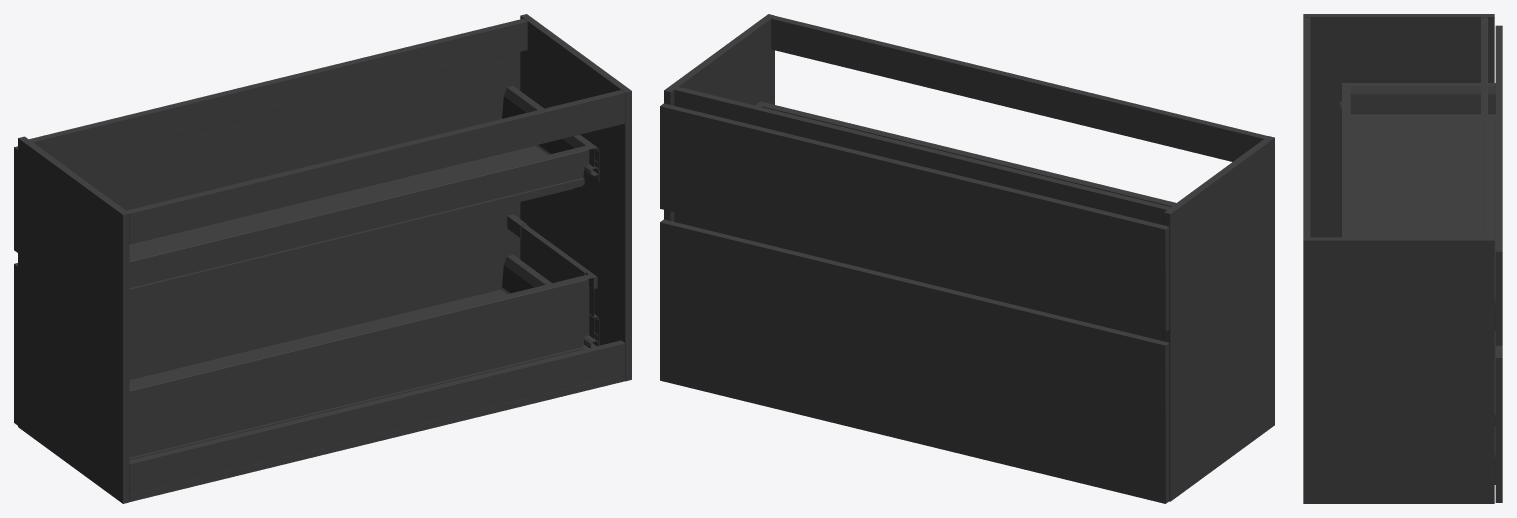
Rendered from INK_1257953.glb.
3 views of the same model, side by side, from view 1: azimuth 30°, elevation 25°; view 2: azimuth 150°, elevation 25°; view 3: azimuth 270°, elevation 25° (orthographic). The views are drawn at different scales.
Visible parts, largest first — view 1: Body__0, Grey__6, Grey__2, Body__5, Body__3, Grey__4; view 2: Body__5, Body__3, Body__0, Grey__2, Grey__4; view 3: Body__0, Grey__4, Body__3, Grey__2, Body__5, Grey__6.
Part boxes in pixels (x1=…): Body__0: x1=18, y1=14, x2=631, y2=503; Grey__6: x1=129, y1=214, x2=599, y2=459; Grey__2: x1=126, y1=90, x2=624, y2=494; Body__5: x1=14, y1=202, x2=520, y2=425; Body__3: x1=14, y1=52, x2=520, y2=252; Grey__4: x1=129, y1=86, x2=599, y2=296; Body__5: x1=660, y1=219, x2=1169, y2=503; Body__3: x1=660, y1=103, x2=1169, y2=331; Body__0: x1=664, y1=14, x2=1274, y2=501; Grey__2: x1=771, y1=16, x2=1267, y2=161; Grey__4: x1=755, y1=101, x2=1175, y2=206; Body__0: x1=1303, y1=14, x2=1494, y2=503; Grey__4: x1=1341, y1=83, x2=1495, y2=330; Body__3: x1=1495, y1=25, x2=1502, y2=345; Grey__2: x1=1303, y1=17, x2=1310, y2=237; Body__5: x1=1495, y1=345, x2=1502, y2=502; Grey__6: x1=1494, y1=331, x2=1495, y2=484.
Bounding box in the file's own units: 1.2 × 0.65 × 0.446.
Materials: 1 (1 with a texture image).
